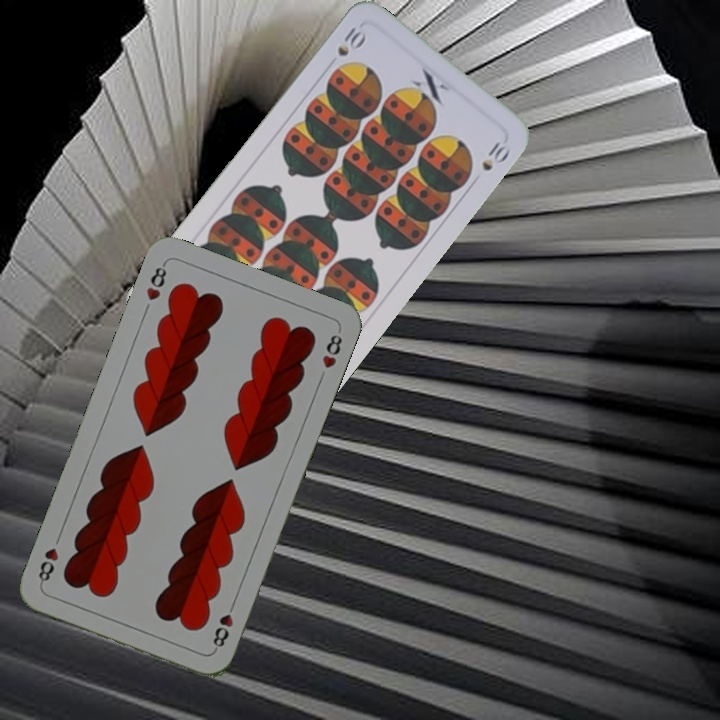H8: (209, 597, 238, 653), (142, 259, 170, 303)
S10: (333, 20, 367, 59)
